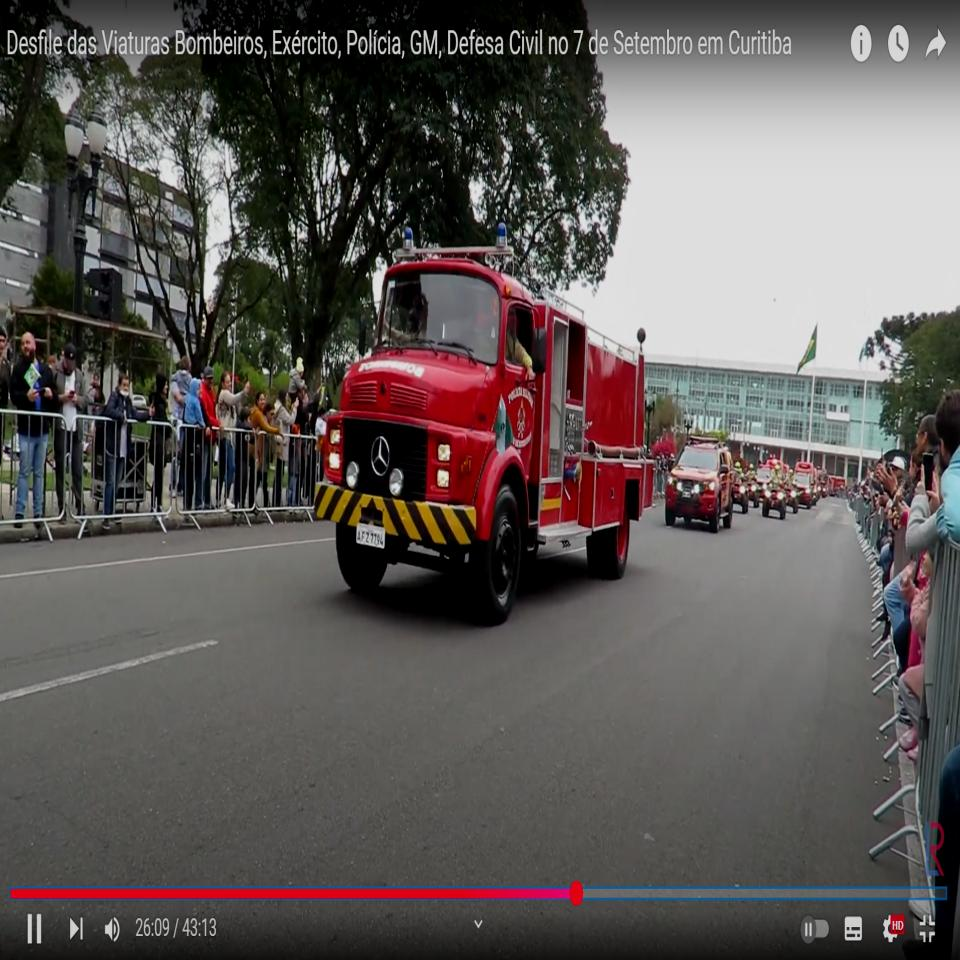bombeiro: (314, 222, 657, 620), (664, 434, 736, 532)
